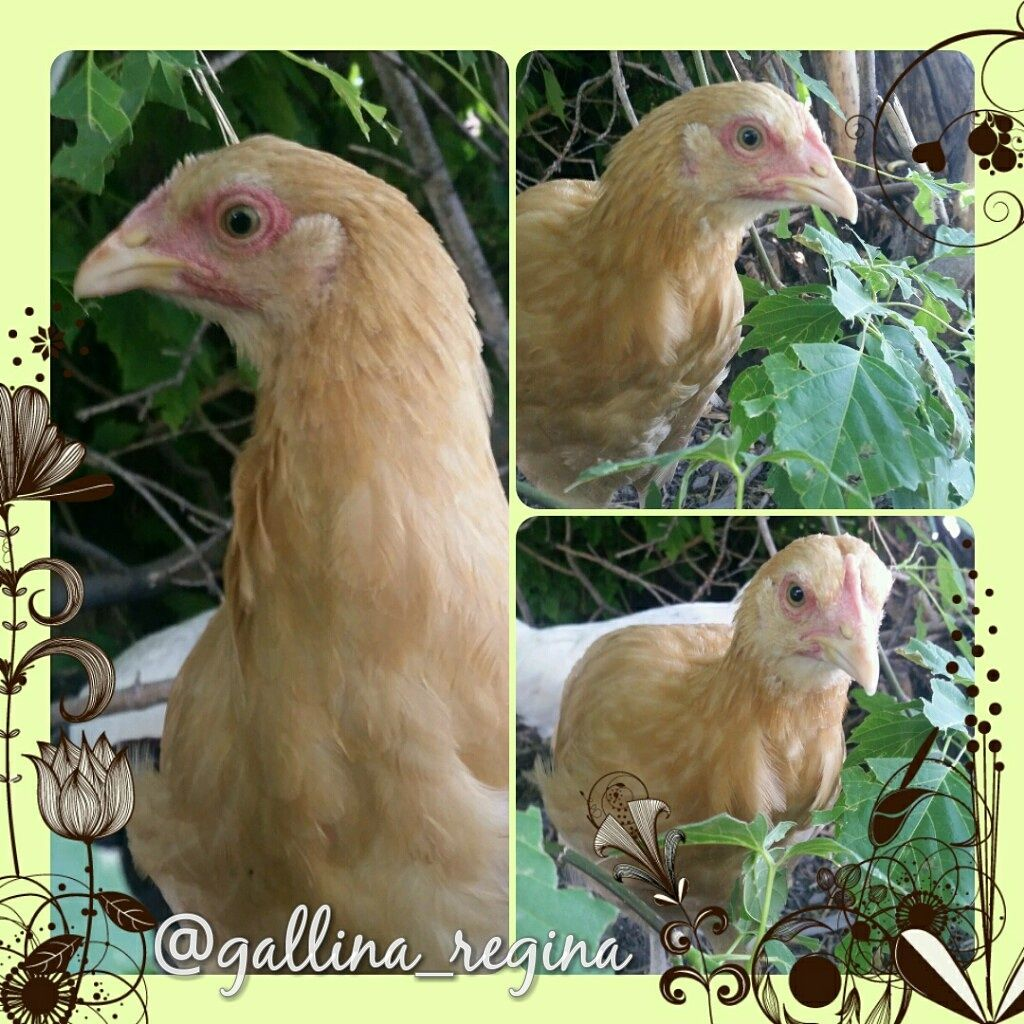buff: (71, 134, 501, 767), (521, 69, 859, 470), (532, 533, 903, 810)
